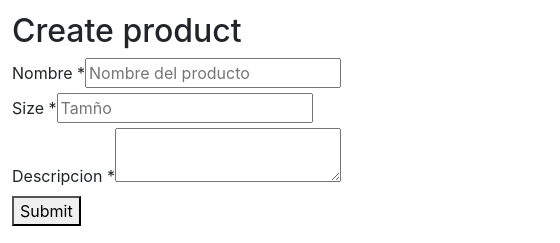
Test: when the user sends the form empty › should show the validation messages
Check: the text "the name is required" is not shown
Check: the text "the size is required" is not shown
Click the button "Submit": (46, 211) left=12, top=196, right=81, bottom=226
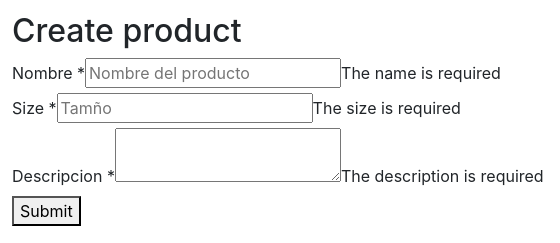
Check: the text "The name is required" is shown, box left=341, top=63, right=501, bottom=83
Check: the text "Size * The size is required" is shown, box left=12, top=93, right=461, bottom=123
Check: the text "Descripcion * The description is required" is shown, box left=12, top=128, right=544, bottom=186
